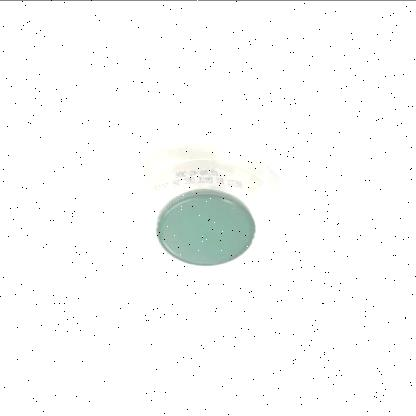Plastic Bottle: (120, 136, 282, 268)
